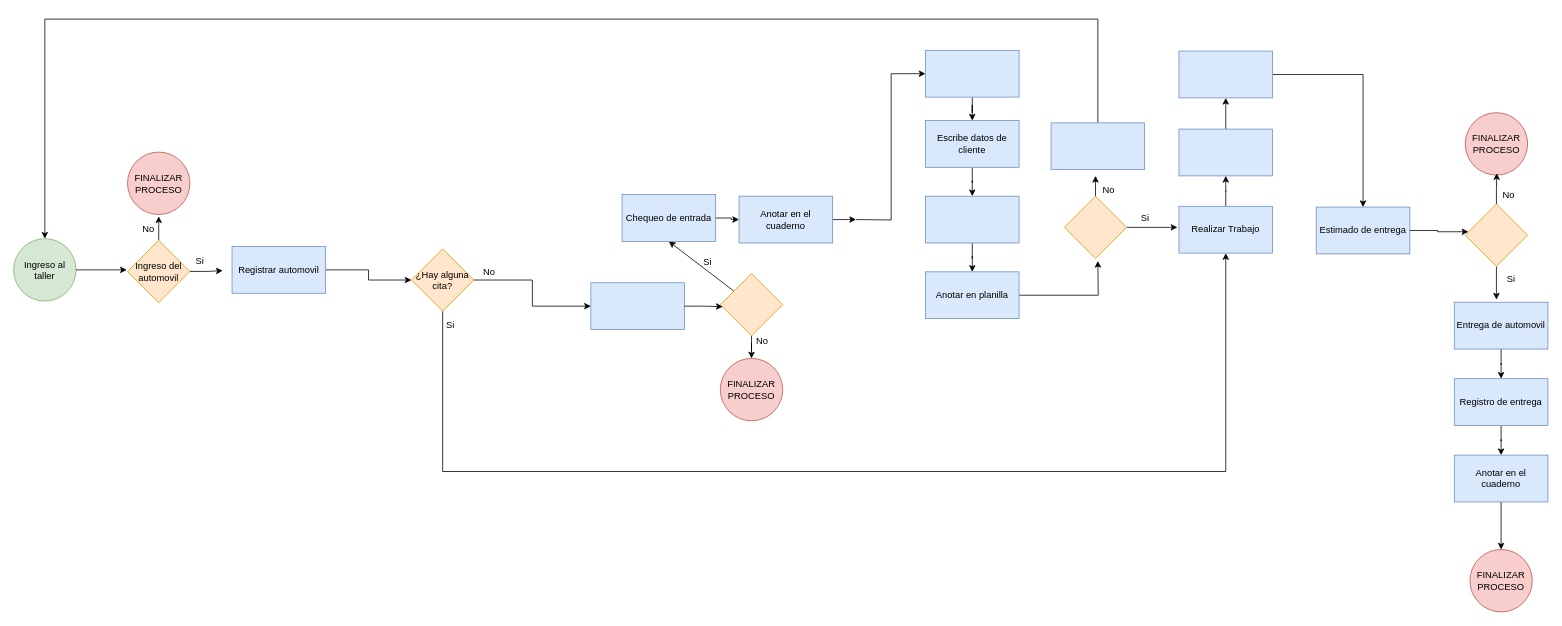
Image size: 1562x626. Some labels were removed from this diagram. The shapes that lost their labels are listed below. From the top down, each one's centre as x and y in pixels, then its label:
At [972,73]: "Solicita datos".
At [1225,74]: "Anotar en un cuaderno".
At [1097,146]: "Se le asigna una cita".
At [1225,152]: "Se realizan Observaciones".
At [972,219]: "Escribe datos del automovil".
At [1095,227]: "Asignar mecanico".
At [1496,234]: "Trabajo finalizado".
At [637,306]: "Ofrecer servicios".
At [751,304]: "Elegir servicio".
